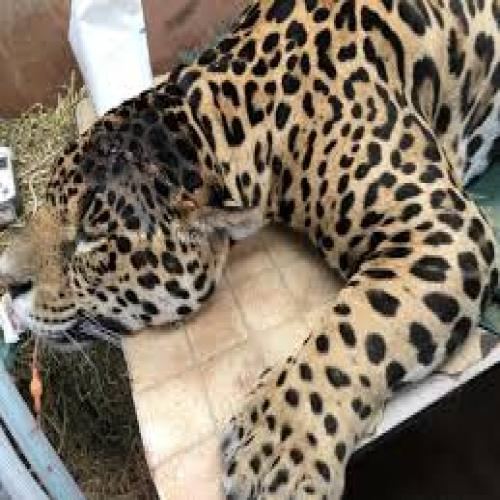jaguar_not-endangered: (6, 18, 488, 494)
